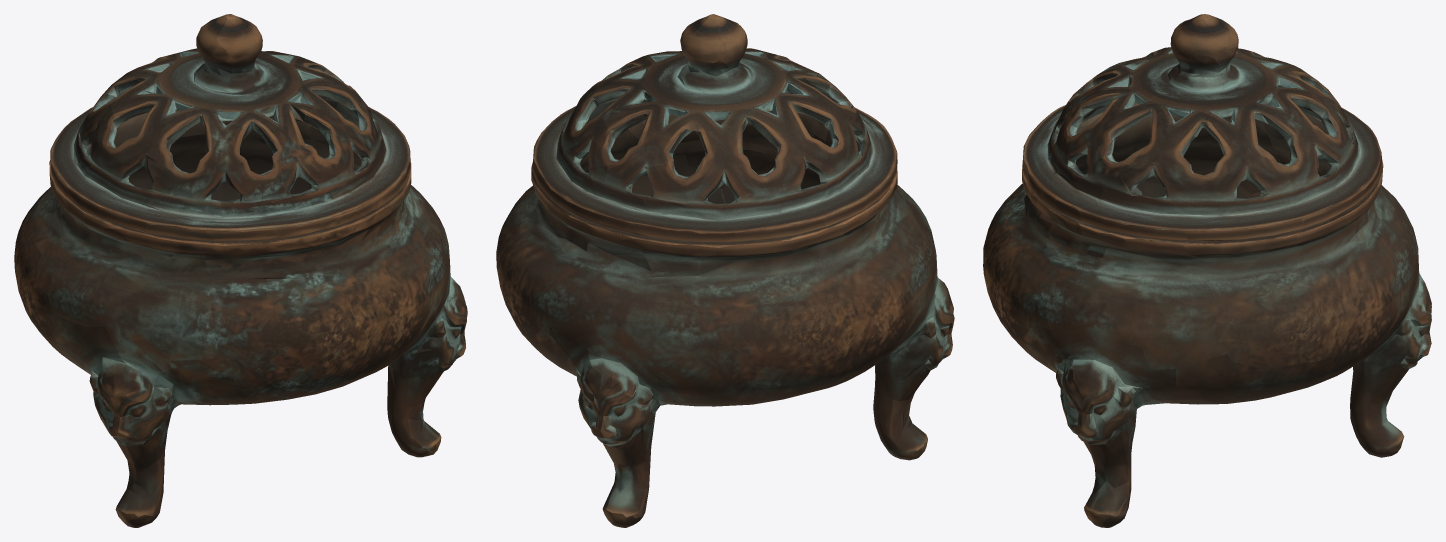
File: prop-censer.glb
3 renders of one model, left to right at view 1: azimuth 30°, elevation 25°; view 2: azimuth 150°, elevation 25°; view 3: azimuth 270°, elevation 25°, orthographic.
Visible parts, largest first — view 1: mesh_node; view 2: mesh_node; view 3: mesh_node.
Part boxes in pixels (x1=…): mesh_node: x1=14, y1=14, x2=467, y2=527; mesh_node: x1=496, y1=14, x2=954, y2=527; mesh_node: x1=983, y1=14, x2=1431, y2=527.
Size of the model in its own units: 1.71 by 1.9 by 1.76.
Materials: 1 (1 with a texture image).
